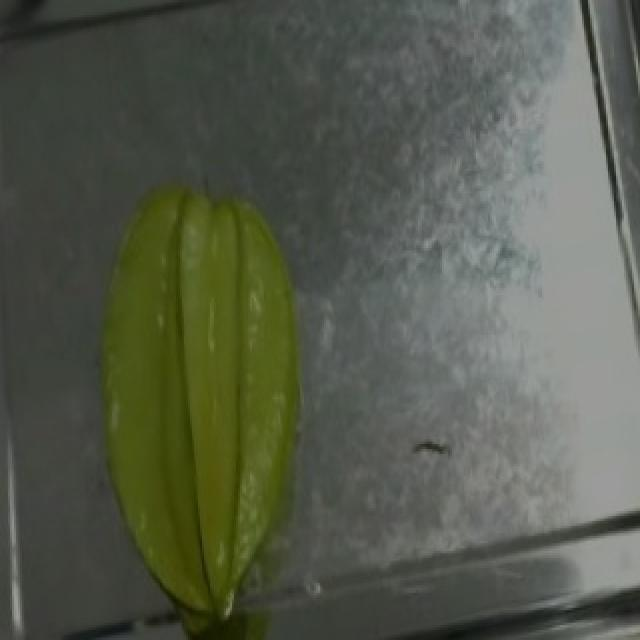fruit: (100, 129, 410, 618)
